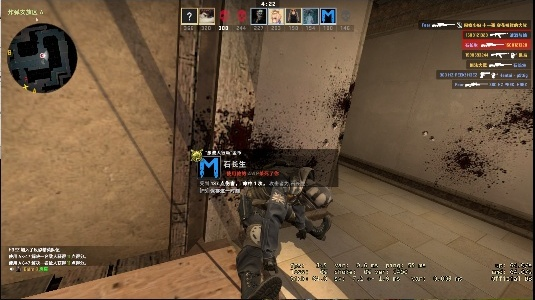body: (237, 159, 328, 298)
head: (303, 179, 328, 212)
